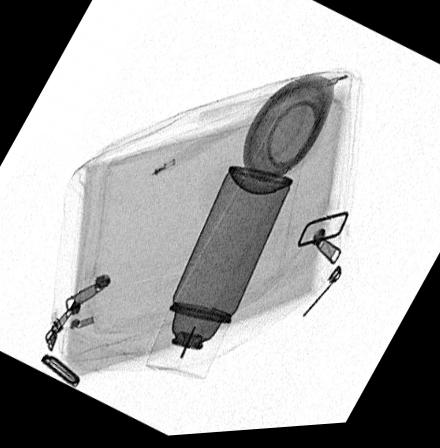Sprayer: (143, 169, 293, 382)
